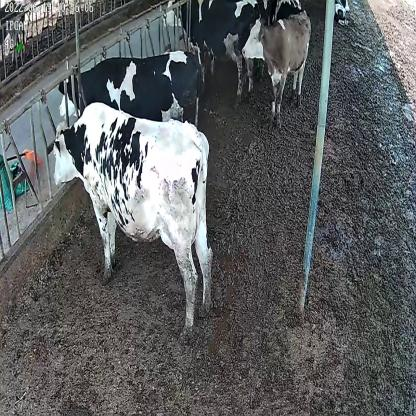cow: (53, 102, 215, 346), (52, 48, 208, 130), (160, 0, 265, 103), (241, 11, 314, 126), (333, 0, 351, 27)
